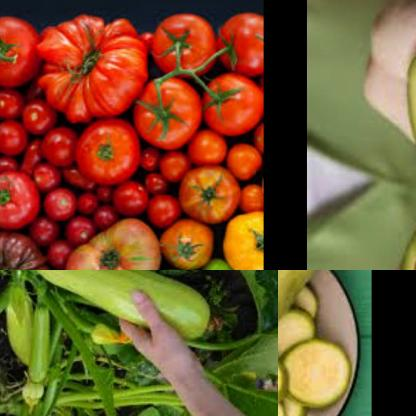tomato: (34, 20, 140, 122), (41, 172, 184, 228), (141, 128, 263, 177), (0, 88, 63, 181), (133, 69, 200, 145), (70, 116, 143, 184), (63, 218, 158, 270), (150, 12, 218, 76), (175, 167, 239, 226), (203, 74, 260, 133), (155, 214, 215, 270), (221, 196, 262, 270), (212, 13, 262, 72), (0, 167, 41, 232), (0, 14, 35, 84), (0, 241, 47, 270), (193, 251, 237, 270)
vegetable marrow: (19, 270, 233, 342), (278, 270, 338, 382), (278, 336, 351, 416)
